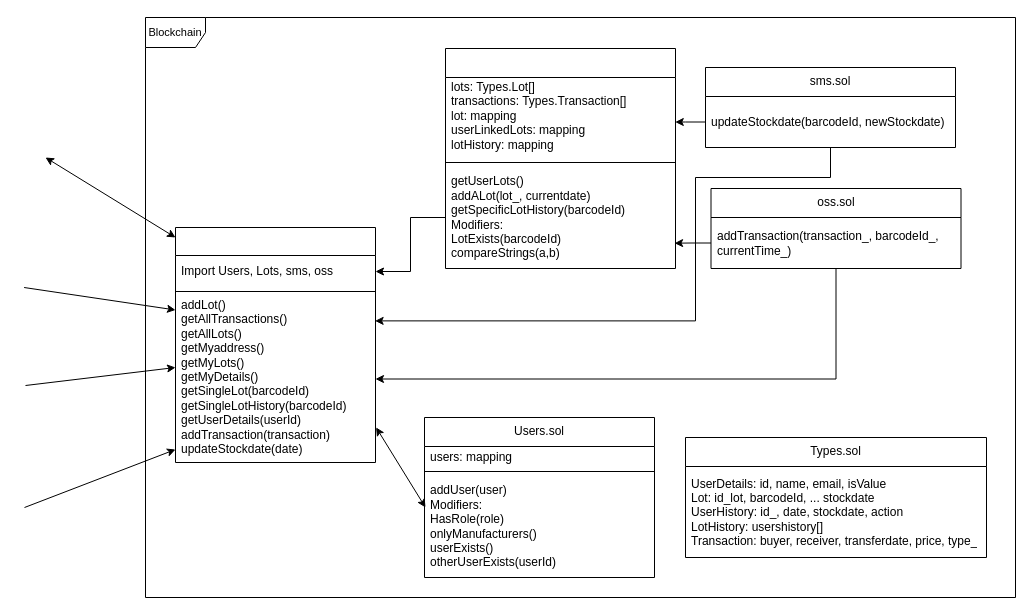
Some shapes in this 1034 by 615 pixel diagram are drawn without their labels. The shapes that lost their labels are listed below. From the top down, each one's box as (x1, y1, x2, y2) in pixels, then its label:
(444, 48, 676, 268): Lots.sol
(174, 226, 376, 462): SupplyChain.sol
